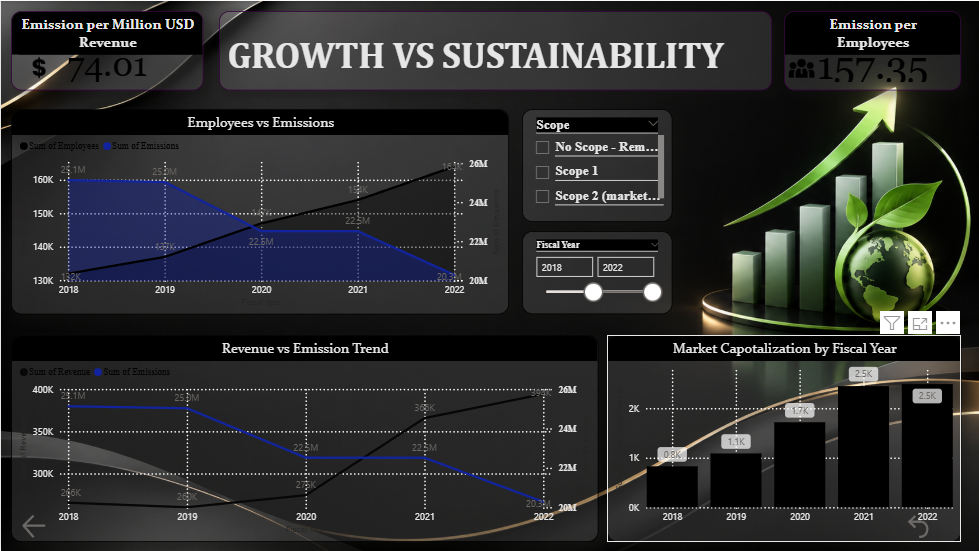

Layout of this report page (visuals, bound fields, positions):
{"tool":"powerbi","page":{"name":"Growth vs Sustainability","canvas":[1280,720],"ordinal":4},"visuals":[{"type":"lineChart","title":"Revenue vs Emission Trend","fields":{"Category":["normalizing_factors.Fiscal Year"],"Y2":["Sum(greenhouse_gas_emissions.Emissions)"],"Y":["Sum(normalizing_factors.Revenue)"]},"box":[13,437.8,769,270.7],"z":0},{"type":"lineStackedColumnComboChart","title":"Market Capotalization by Fiscal Year","fields":{"Category":["Dim_Year.Fiscal Year"],"Y":["Sum(normalizing_factors.Market Capitalization)"]},"box":[793.4,437.8,463.7,270.7],"z":1000},{"type":"card","title":"Emission per Million USD Revenue","fields":{"Values":["normalizing_factors.Emission per Million USD Revenue"]},"box":[13,13,252,103.7],"z":2000},{"type":"card","title":"Emission per Employees","fields":{"Values":["normalizing_factors.Emission per Employee"]},"box":[1025.3,13,231.8,103.7],"z":3000},{"type":"areaChart","title":"Employees vs Emissions","fields":{"Y":["Sum(normalizing_factors.Employees)"],"Y2":["Sum(greenhouse_gas_emissions.Emissions)"],"Category":["Dim_Year.Fiscal Year"]},"box":[13,141.1,679.7,269.3],"z":4000},{"type":"slicer","fields":{"Values":["Dim_Year.Fiscal Year"]},"box":[708.5,305.3,224.6,109.4],"z":5000},{"type":"textbox","box":[285.1,13,724.3,103.7],"z":6000},{"type":"actionButton","box":[23,668.2,99.4,40.3],"z":7000},{"type":"actionButton","box":[1180.8,668.2,76.3,40.3],"z":8000},{"type":"image","box":[0,64.8,99.4,46.1],"z":9000},{"type":"image","box":[1025.3,54.7,46.1,66.2],"z":10000},{"type":"slicer","fields":{"Values":["greenhouse_gas_emissions.Scope"]},"box":[708.5,141.1,224.6,148.3],"z":11000}]}

Visuals, with their boxes in screenshot pixels (x1, y1, x2, y2), scaled from the page's 1280x720 canvas onto the 979x551 screenshot:
"Revenue vs Emission Trend" lineChart: x1=10, y1=335, x2=598, y2=542
"Market Capotalization by Fiscal Year" lineStackedColumnComboChart: x1=607, y1=335, x2=961, y2=542
"Emission per Million USD Revenue" card: x1=10, y1=10, x2=203, y2=89
"Emission per Employees" card: x1=784, y1=10, x2=961, y2=89
"Employees vs Emissions" areaChart: x1=10, y1=108, x2=530, y2=314
slicer - Dim_Year.Fiscal Year: x1=542, y1=234, x2=714, y2=317
textbox: x1=218, y1=10, x2=772, y2=89
actionButton: x1=18, y1=511, x2=94, y2=542
actionButton: x1=903, y1=511, x2=961, y2=542
image: x1=0, y1=50, x2=76, y2=85
image: x1=784, y1=42, x2=819, y2=93
slicer - greenhouse_gas_emissions.Scope: x1=542, y1=108, x2=714, y2=221
